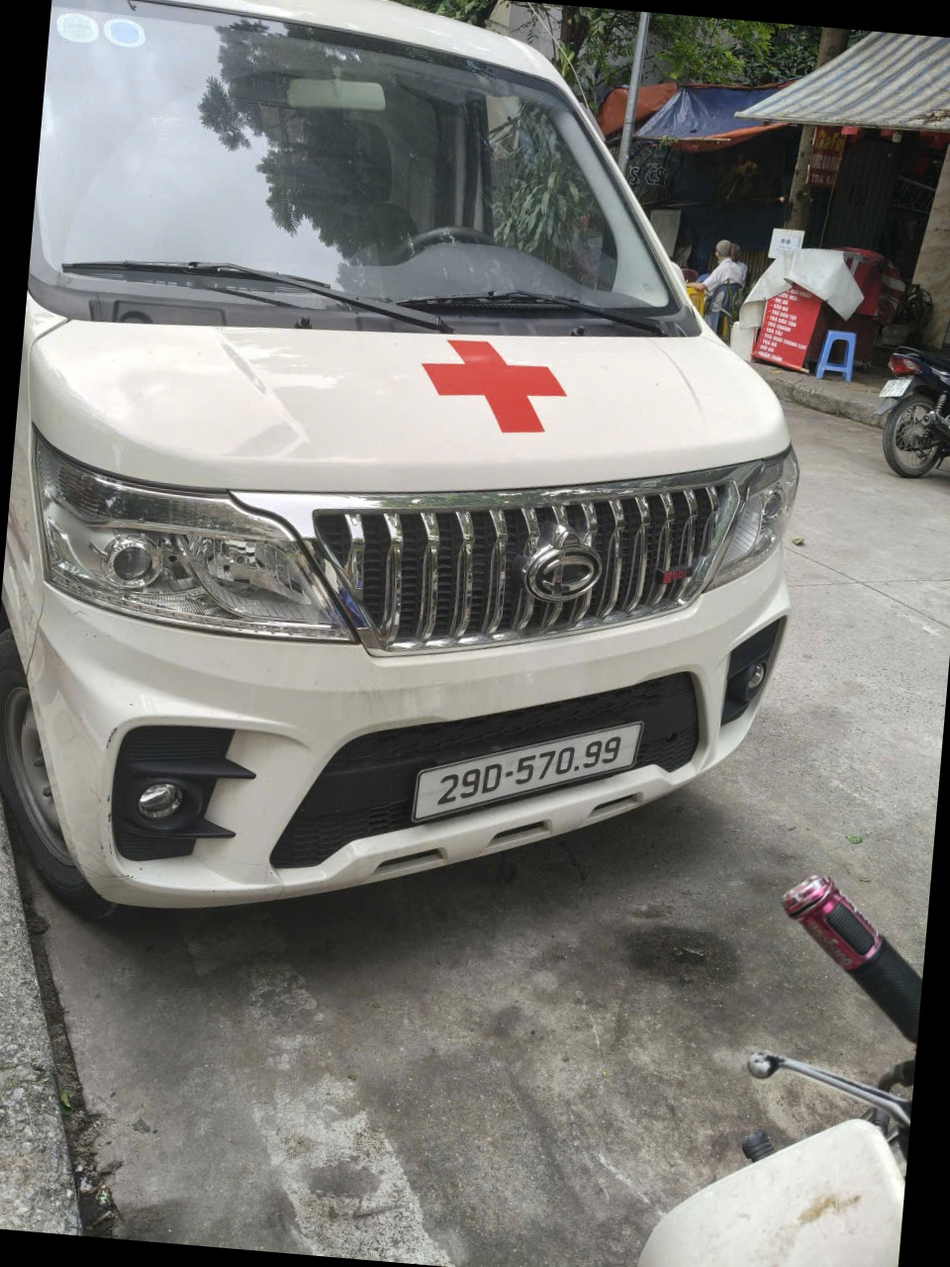plate: (104, 495, 250, 526)
